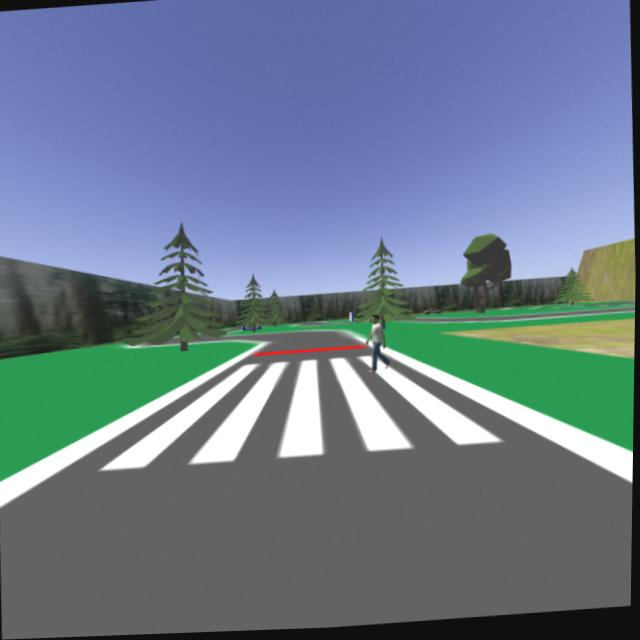pedestrian: (362, 311, 395, 374)
